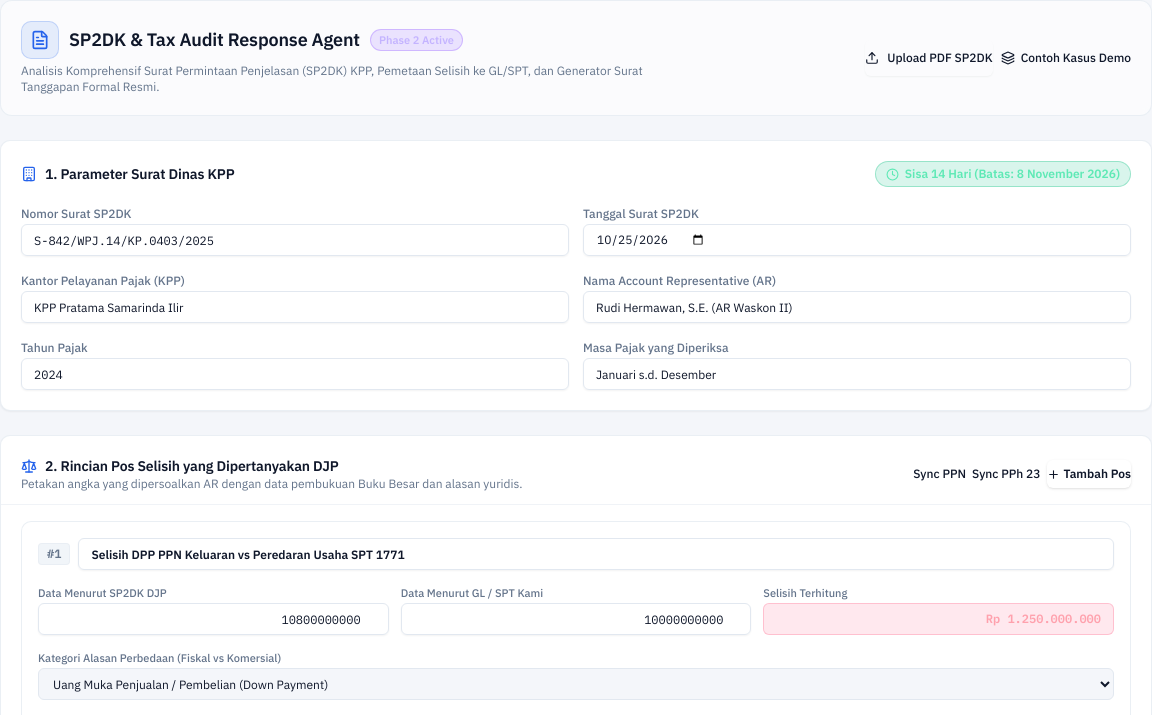
it: SP2DKResponseTab Component › allows adding a new contested item row
This screenshot has width=1152, height=715.
Click the button "Tambah Pos" at (1089, 474), box [1046,460,1131,488]
(page scrolled)
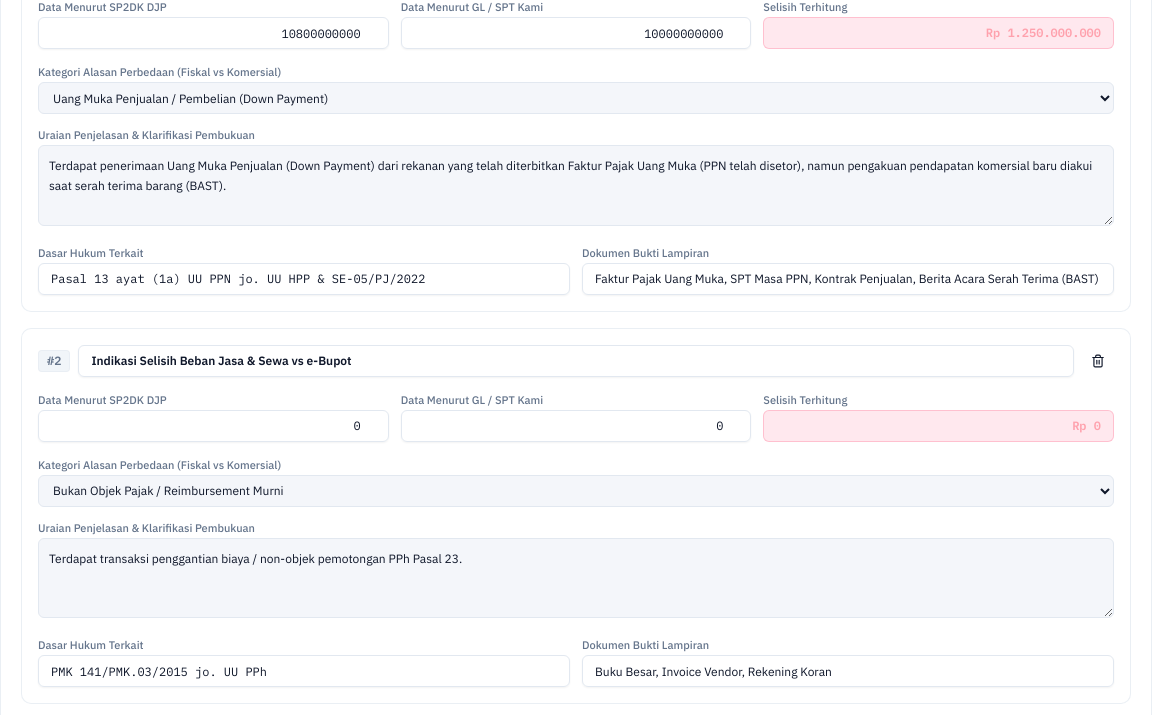
Expected: the 3rd field showing "Indikasi Selisih Beban Jasa & Sewa vs e-Bupot" is shown, [78,344,1074,376]
